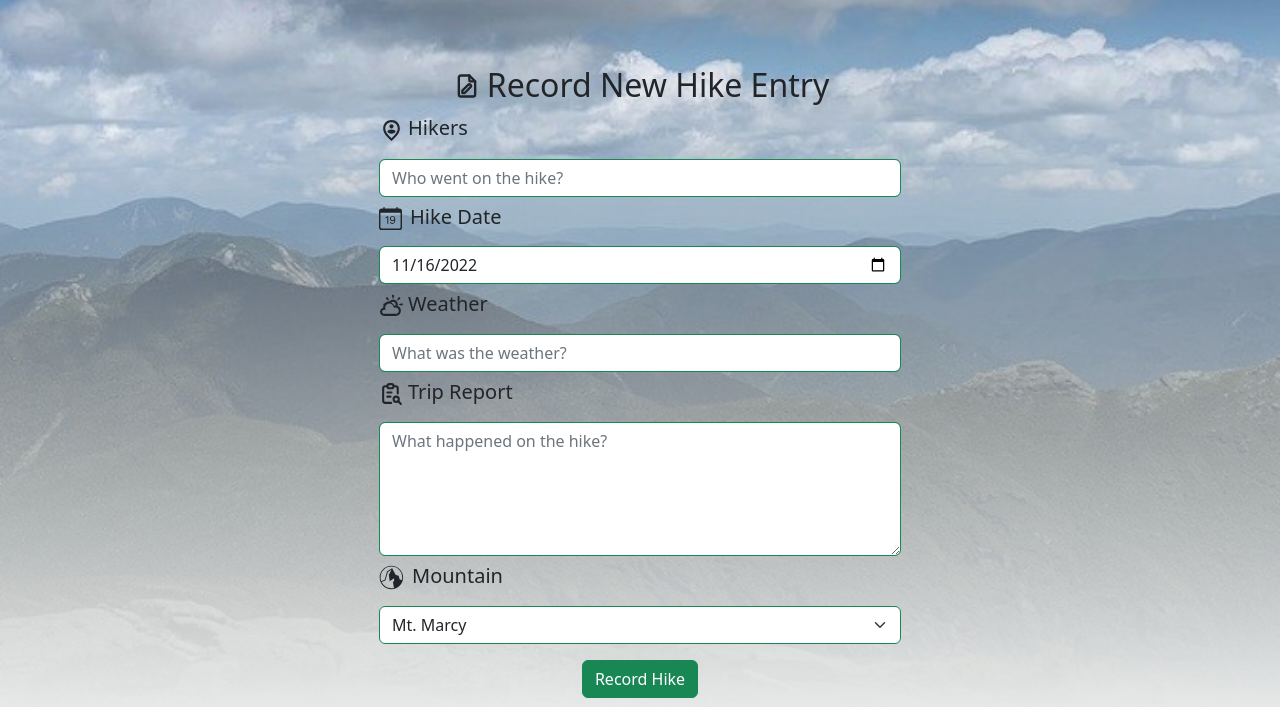
RecordHike component testing › should alert the user that hikers are required to submit if input is empty
This screenshot has width=1280, height=707.
Step 1. Click the button "Record Hike" → [640, 679], box [582,660,698,698]
(page scrolled)
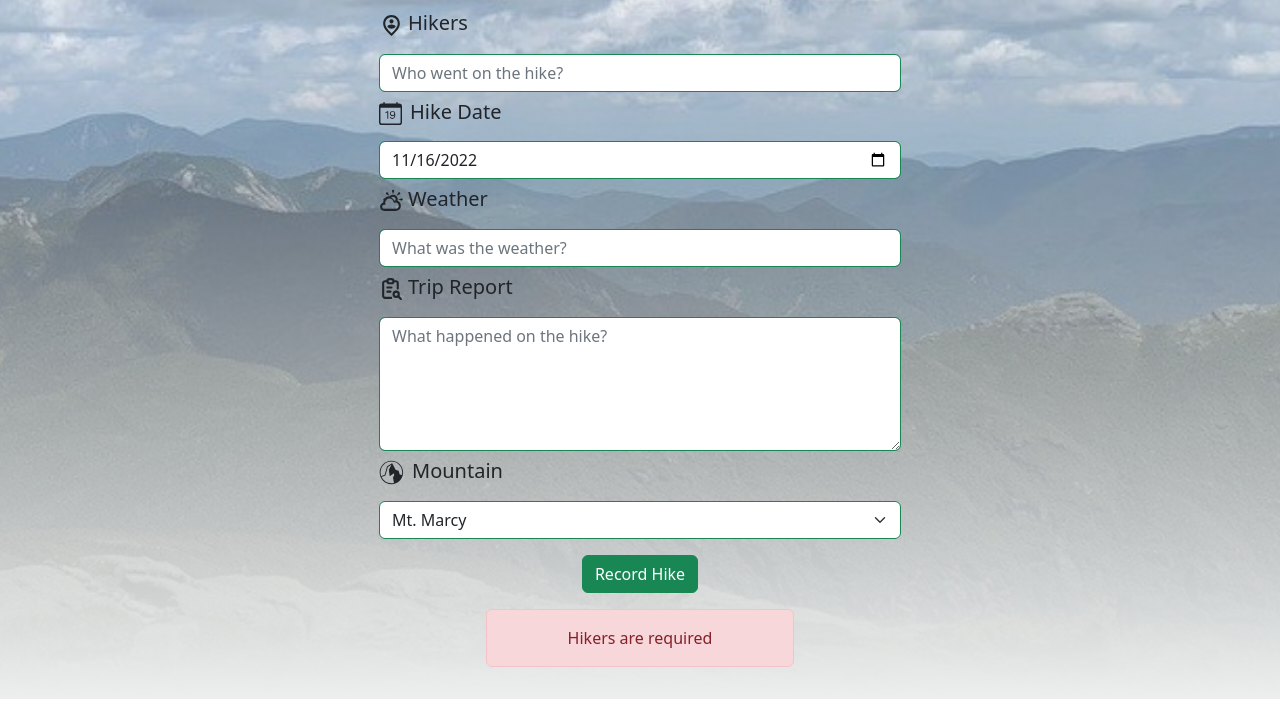
Expected: the text "Hikers are required" is shown, [486,609,794,667]
